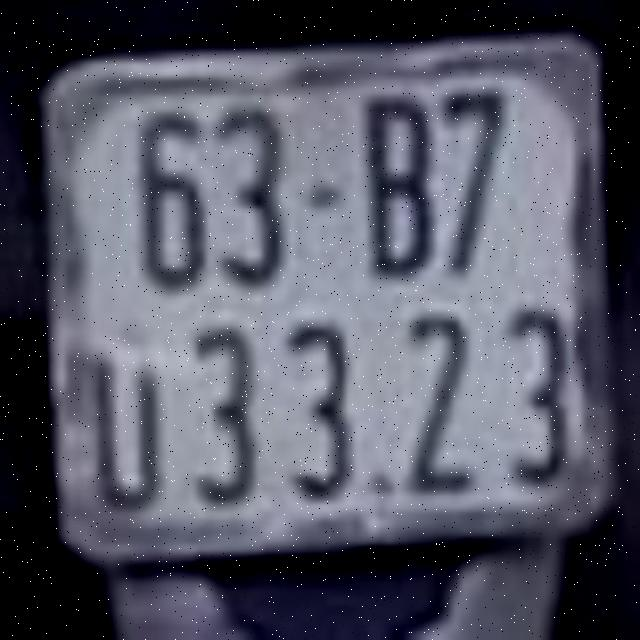0: (89, 316, 164, 511)
2: (403, 306, 477, 494)
3: (283, 316, 354, 501), (214, 101, 284, 288), (502, 301, 572, 488), (189, 318, 257, 506)
6: (135, 102, 207, 291)
7: (443, 82, 508, 276)
B: (360, 86, 435, 280)
